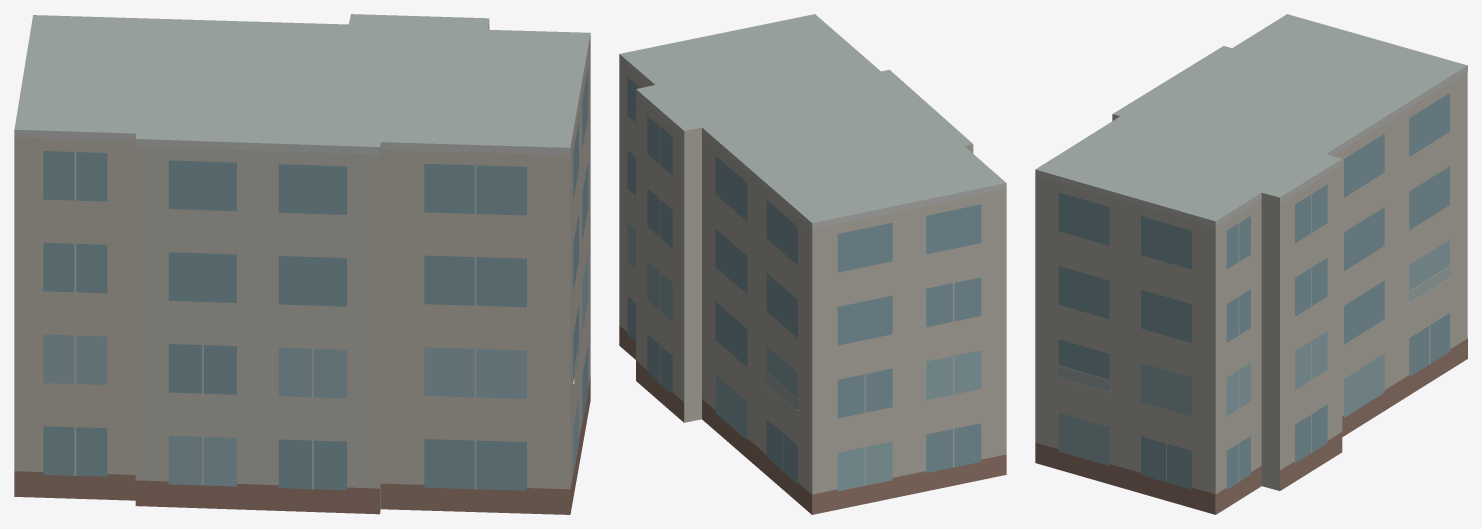
File: survey-upis-32893521.glb
3 renders of one model, left to right at view 1: azimuth 30°, elevation 25°; view 2: azimuth 150°, elevation 25°; view 3: azimuth 270°, elevation 25°, orthographic. The views are drawn at different scales.
Parts seen in each view (by area): view 1: survey-upis-32893521.tmp; view 2: survey-upis-32893521.tmp; view 3: survey-upis-32893521.tmp.
Part boxes in pixels (x1,y1,x2,y2): survey-upis-32893521.tmp: (14, 14, 590, 514); survey-upis-32893521.tmp: (619, 14, 1006, 514); survey-upis-32893521.tmp: (1035, 14, 1467, 514).
Size of the model in its own units: 17.89 by 11.8 by 15.77.
